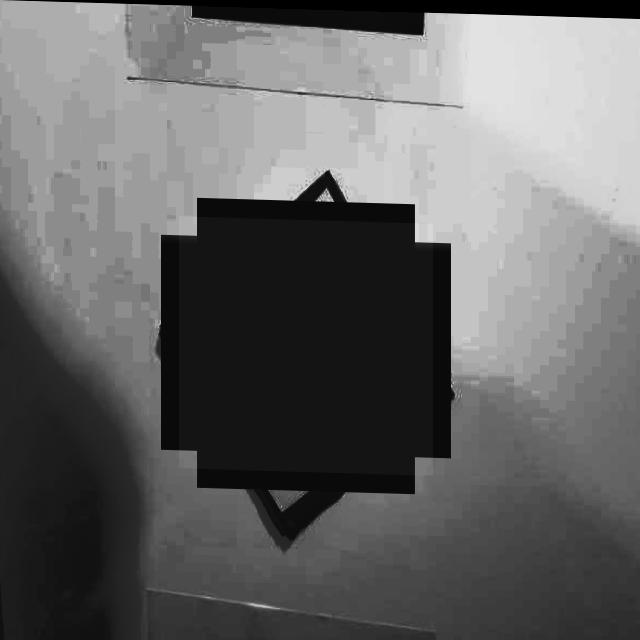qr_code: (179, 215, 433, 473)
